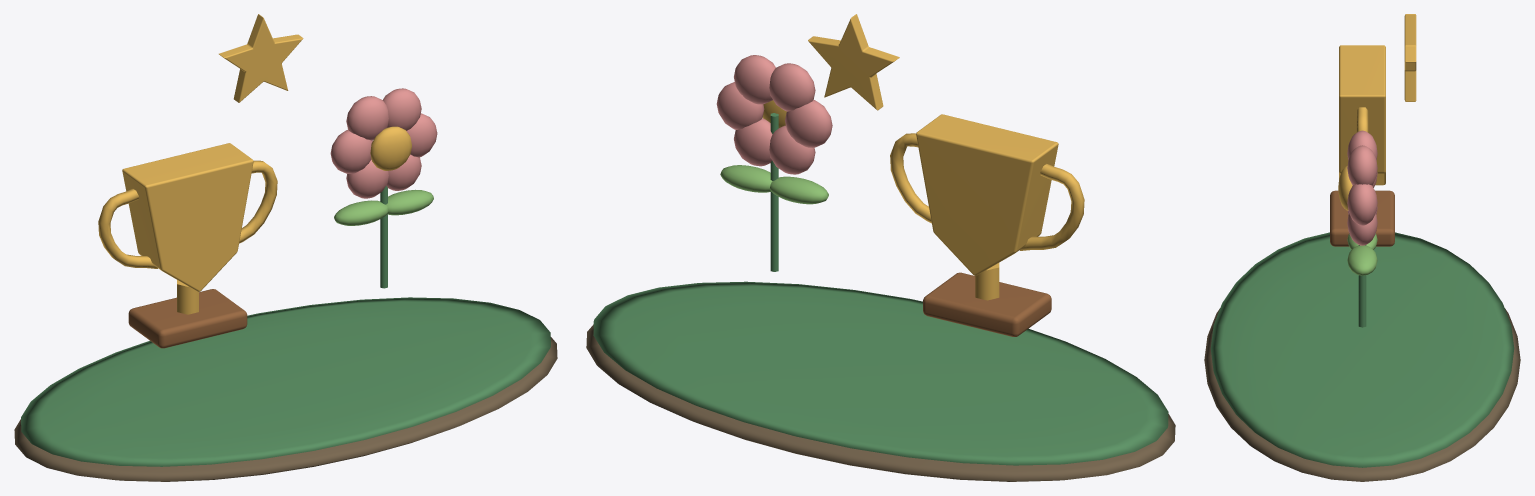
The model's file is complete-third-excellent-elegance.glb.
3 renders of one model, left to right at view 1: azimuth 30°, elevation 25°; view 2: azimuth 150°, elevation 25°; view 3: azimuth 270°, elevation 25°, orthographic. The views are drawn at different scales.
Parts seen in each view (by area): view 1: complete-third-excellent-elegance_surface_01, complete-third-excellent-elegance_surface_02, complete-third-excellent-elegance_surface_00, complete-third-excellent-elegance_surface_05, complete-third-excellent-elegance_surface_03, complete-third-excellent-elegance_surface_04; view 2: complete-third-excellent-elegance_surface_01, complete-third-excellent-elegance_surface_02, complete-third-excellent-elegance_surface_00, complete-third-excellent-elegance_surface_05, complete-third-excellent-elegance_surface_03, complete-third-excellent-elegance_surface_04; view 3: complete-third-excellent-elegance_surface_01, complete-third-excellent-elegance_surface_02, complete-third-excellent-elegance_surface_00, complete-third-excellent-elegance_surface_05, complete-third-excellent-elegance_surface_03, complete-third-excellent-elegance_surface_04.
Part boxes in pixels (bbox=[...]): complete-third-excellent-elegance_surface_01: bbox=[21, 186, 550, 466]; complete-third-excellent-elegance_surface_02: bbox=[98, 14, 411, 314]; complete-third-excellent-elegance_surface_00: bbox=[14, 337, 557, 481]; complete-third-excellent-elegance_surface_05: bbox=[330, 88, 437, 198]; complete-third-excellent-elegance_surface_03: bbox=[128, 289, 247, 348]; complete-third-excellent-elegance_surface_04: bbox=[334, 189, 433, 225]; complete-third-excellent-elegance_surface_01: bbox=[593, 113, 1168, 465]; complete-third-excellent-elegance_surface_02: bbox=[762, 14, 1084, 300]; complete-third-excellent-elegance_surface_00: bbox=[586, 324, 1175, 481]; complete-third-excellent-elegance_surface_05: bbox=[716, 55, 832, 174]; complete-third-excellent-elegance_surface_03: bbox=[923, 272, 1051, 336]; complete-third-excellent-elegance_surface_04: bbox=[720, 165, 828, 204]; complete-third-excellent-elegance_surface_01: bbox=[1210, 232, 1514, 467]; complete-third-excellent-elegance_surface_02: bbox=[1338, 14, 1416, 210]; complete-third-excellent-elegance_surface_00: bbox=[1204, 308, 1520, 481]; complete-third-excellent-elegance_surface_05: bbox=[1347, 130, 1377, 245]; complete-third-excellent-elegance_surface_03: bbox=[1330, 190, 1394, 246]; complete-third-excellent-elegance_surface_04: bbox=[1347, 233, 1377, 275].
Size of the model in its own units: 4.56 by 3.15 by 2.5.
